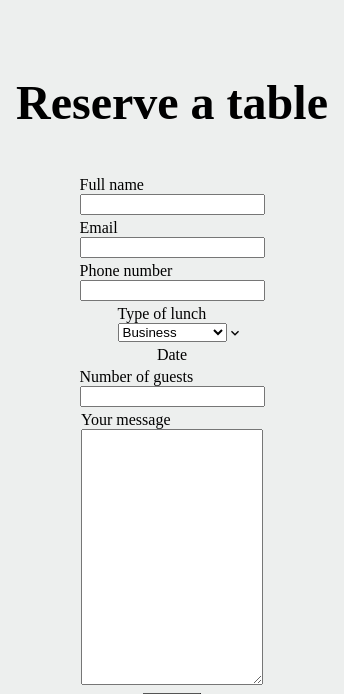
Scenario: empty comment
The image size is (344, 694).
enter comment input
Clear the text box with id "comment" at (172, 557), box [81,429,263,685]
(page scrolled)
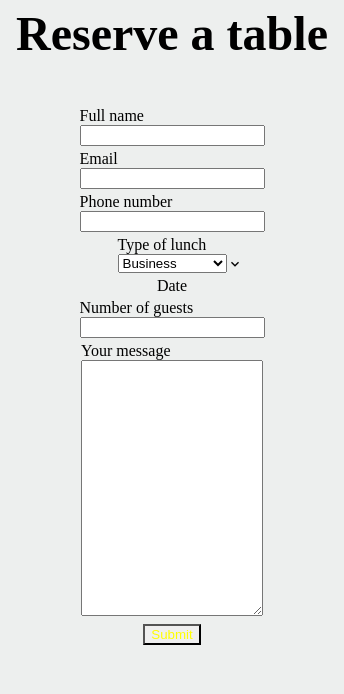
click submit
Click the button with id "booking-submit".
click(172, 635)  # box [143,624,201,645]
(page scrolled)
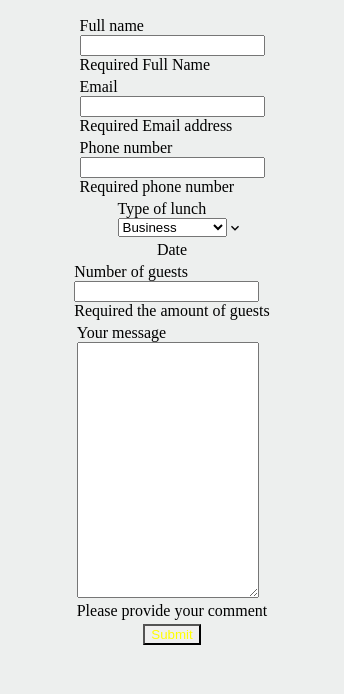
Result: the text "Please provide your comment" is shown at [77,602,267,620]
